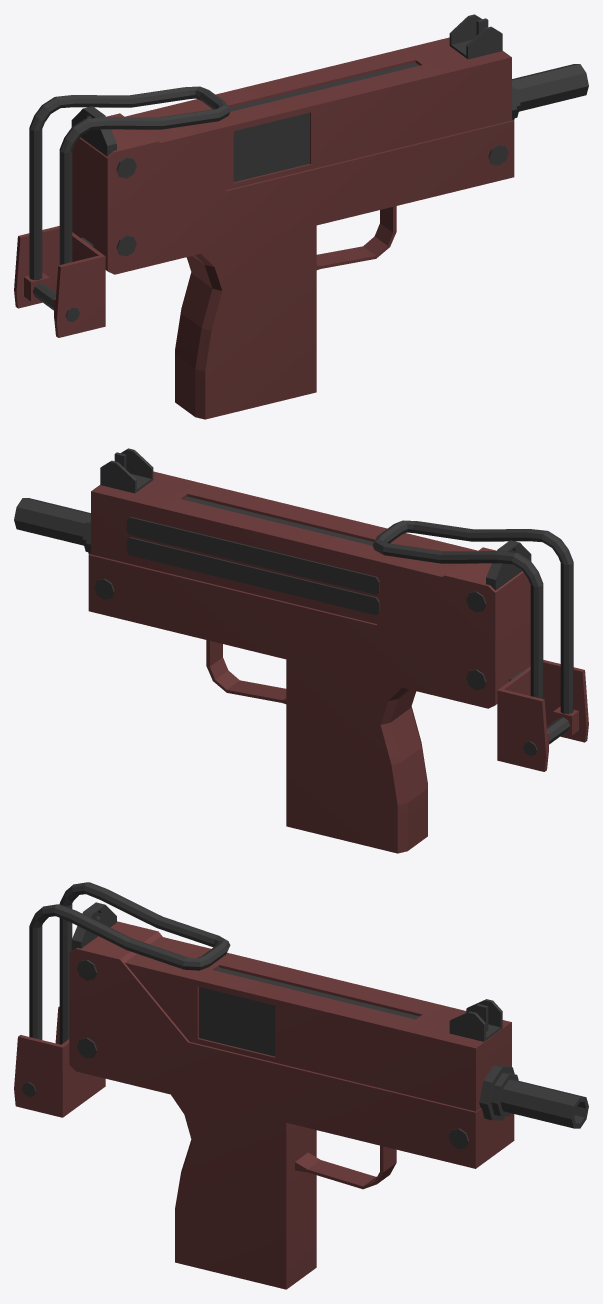
Rendered from SMG1_06.fbx.
The picture shows the model from 3 angles, top to bottom: view 1: azimuth 30°, elevation 25°; view 2: azimuth 150°, elevation 25°; view 3: azimuth 330°, elevation 25°; orthographic projection.
Visible parts, largest first — view 1: SMG1_06; view 2: SMG1_06; view 3: SMG1_06.
Boxes of the visible parts, bbox=[...] form: SMG1_06: bbox=[14, 14, 588, 419]; SMG1_06: bbox=[14, 448, 588, 853]; SMG1_06: bbox=[14, 882, 588, 1289].
Bounding box in the file's own units: 0.2805 × 0.162 × 0.0396.
